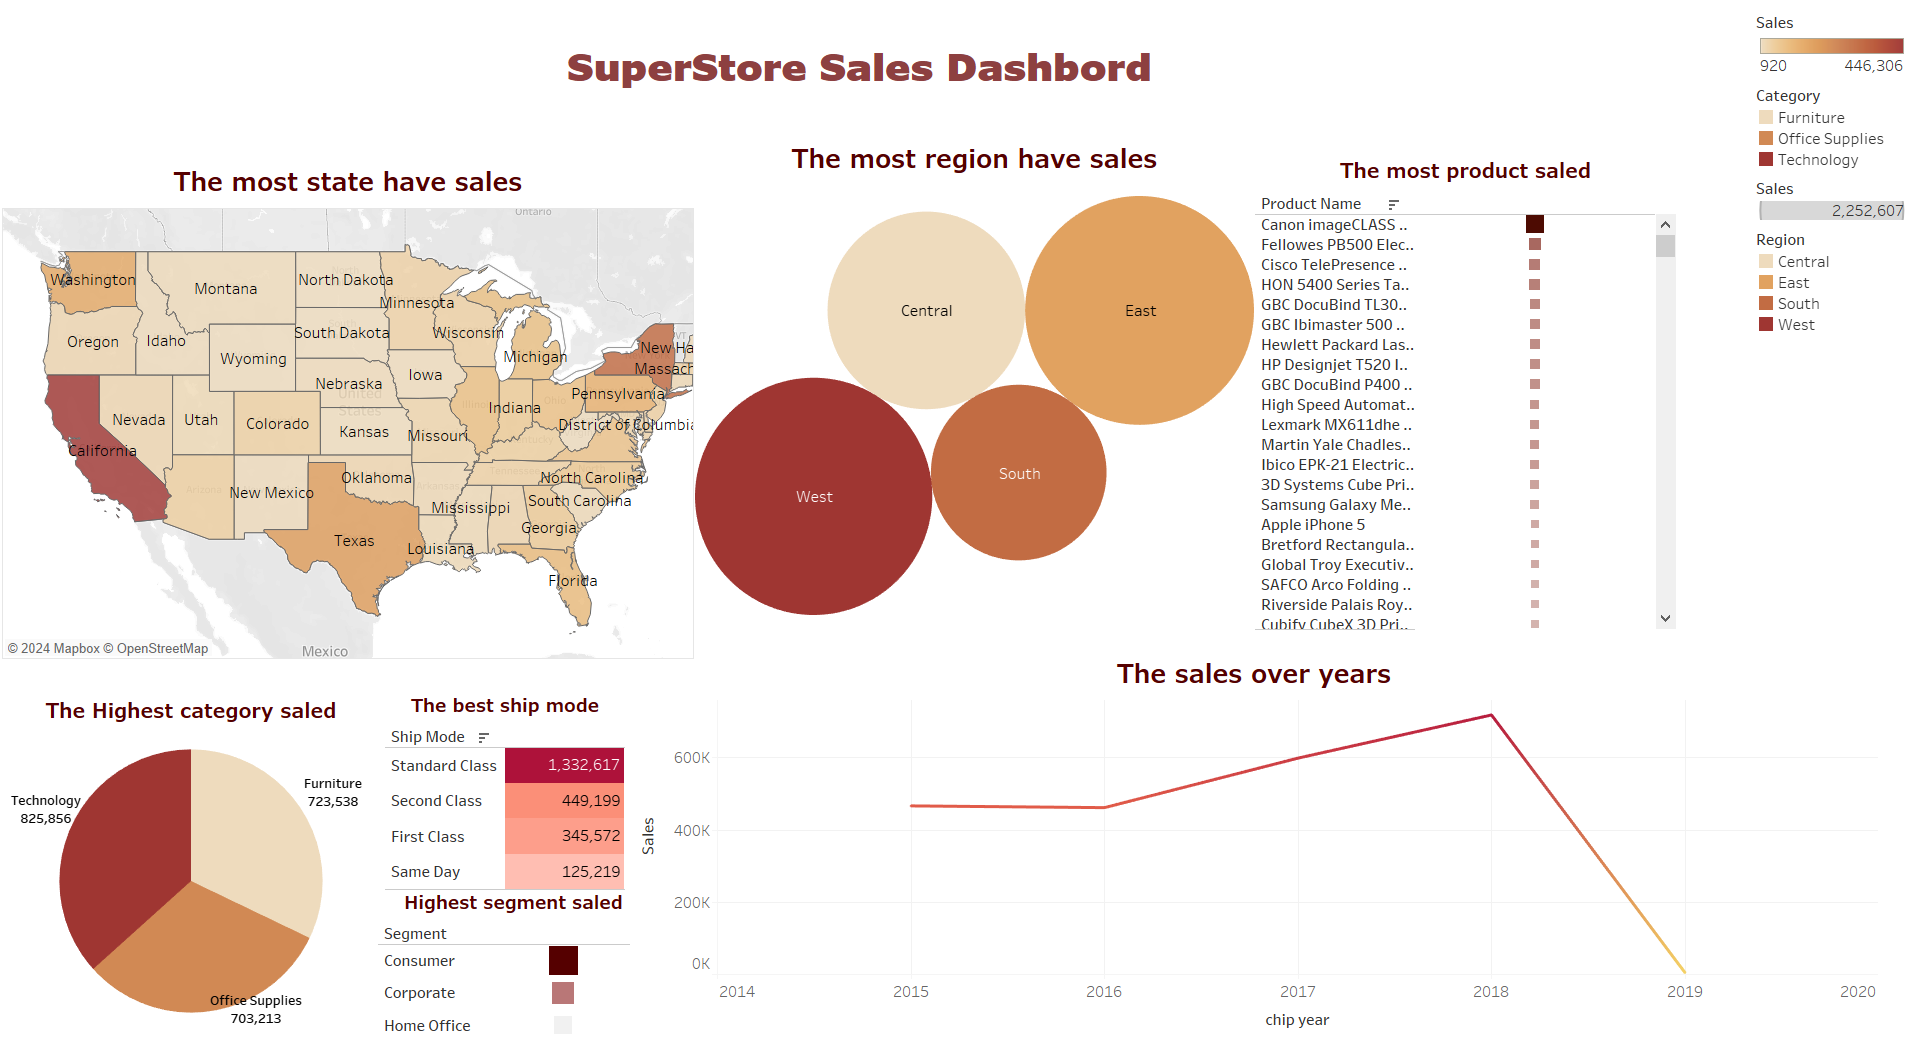

The page's visual inventory and layout, read from the dashboard file:
{"tool":"tableau","page":{"name":"Dashboard 1","canvas":[1000,1000],"units":"permille","ordinal":0},"visuals":[{"type":"legend","title":"state&sales","param":"[federated.07zefus1oyrbp51ge4f5z0k6ujru].[sum:Sales:qk]","box":[898.6,9.3,96.6,84.8]},{"type":"legend","title":"category&sales","param":"[federated.07zefus1oyrbp51ge4f5z0k6ujru].[none:Category:nk]","box":[898.6,94.1,96.6,108]},{"type":"worksheet","title":"region&sales","mark":"Circle","box":[362.1,133.6,290.9,466.9]},{"type":"worksheet","title":"productName&sales","mark":"Automatic","rows":["Product Name"],"box":[653.6,147.5,219.1,456.4]},{"type":"worksheet","title":"state&sales","mark":"Automatic","box":[1.2,155.6,360.3,489]},{"type":"legend","title":"category&sales","param":"[federated.07zefus1oyrbp51ge4f5z0k6ujru].[sum:Sales:qk]","box":[898.6,202.1,96.6,59.2]},{"type":"legend","title":"region&sales","param":"[federated.07zefus1oyrbp51ge4f5z0k6ujru].[none:Region:nk]","box":[898.6,261.3,96.6,132.4]},{"type":"worksheet","title":"sales over years","mark":"Automatic","rows":["Sales"],"cols":["Calculation_688769273014046721"],"box":[328.3,627.2,650,367]},{"type":"worksheet","title":"shipMode&sales","mark":"Square","rows":["Ship Mode"],"box":[200.4,662,124.9,191.6]},{"type":"worksheet","title":"category&sales","mark":"Pie","box":[5.4,665.5,188.3,320.6]},{"type":"worksheet","title":"segment&sales","mark":"Automatic","rows":["Segment"],"box":[196.7,850.2,141.2,148.7]}]}

Visuals, with their boxes on the dashboard's canvas, which has no fixed pixel size, in thousandths of its width and height (x1, y1, x2, y2). These are canvas units, not pixel positions in the 1920x1041 screenshot, which may show the page scaled, cropped or inside an application window:
"state&sales" legend: [899, 9, 995, 94]
"category&sales" legend: [899, 94, 995, 202]
"region&sales" worksheet (Circle marks): [362, 134, 653, 600]
"productName&sales" worksheet: [654, 148, 873, 604]
"state&sales" worksheet: [1, 156, 362, 645]
"category&sales" legend: [899, 202, 995, 261]
"region&sales" legend: [899, 261, 995, 394]
"sales over years" worksheet: [328, 627, 978, 994]
"shipMode&sales" worksheet (Square marks): [200, 662, 325, 854]
"category&sales" worksheet (Pie marks): [5, 666, 194, 986]
"segment&sales" worksheet: [197, 850, 338, 999]
